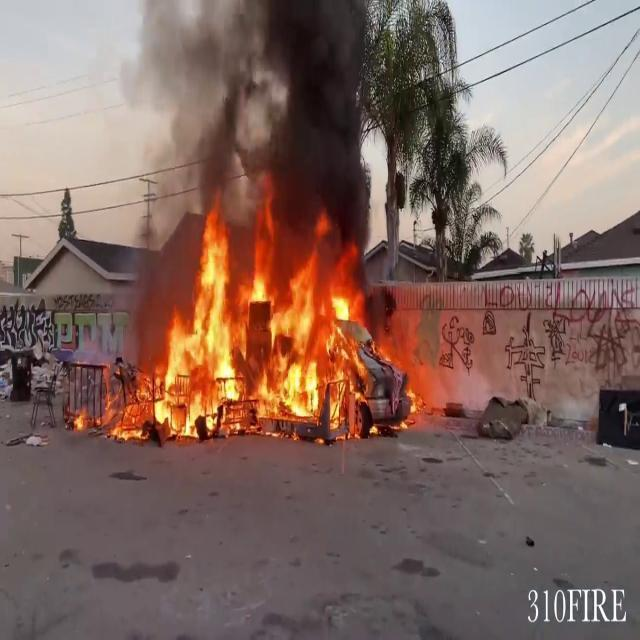Fire: (126, 210, 377, 438)
Smoke: (136, 0, 384, 236)
